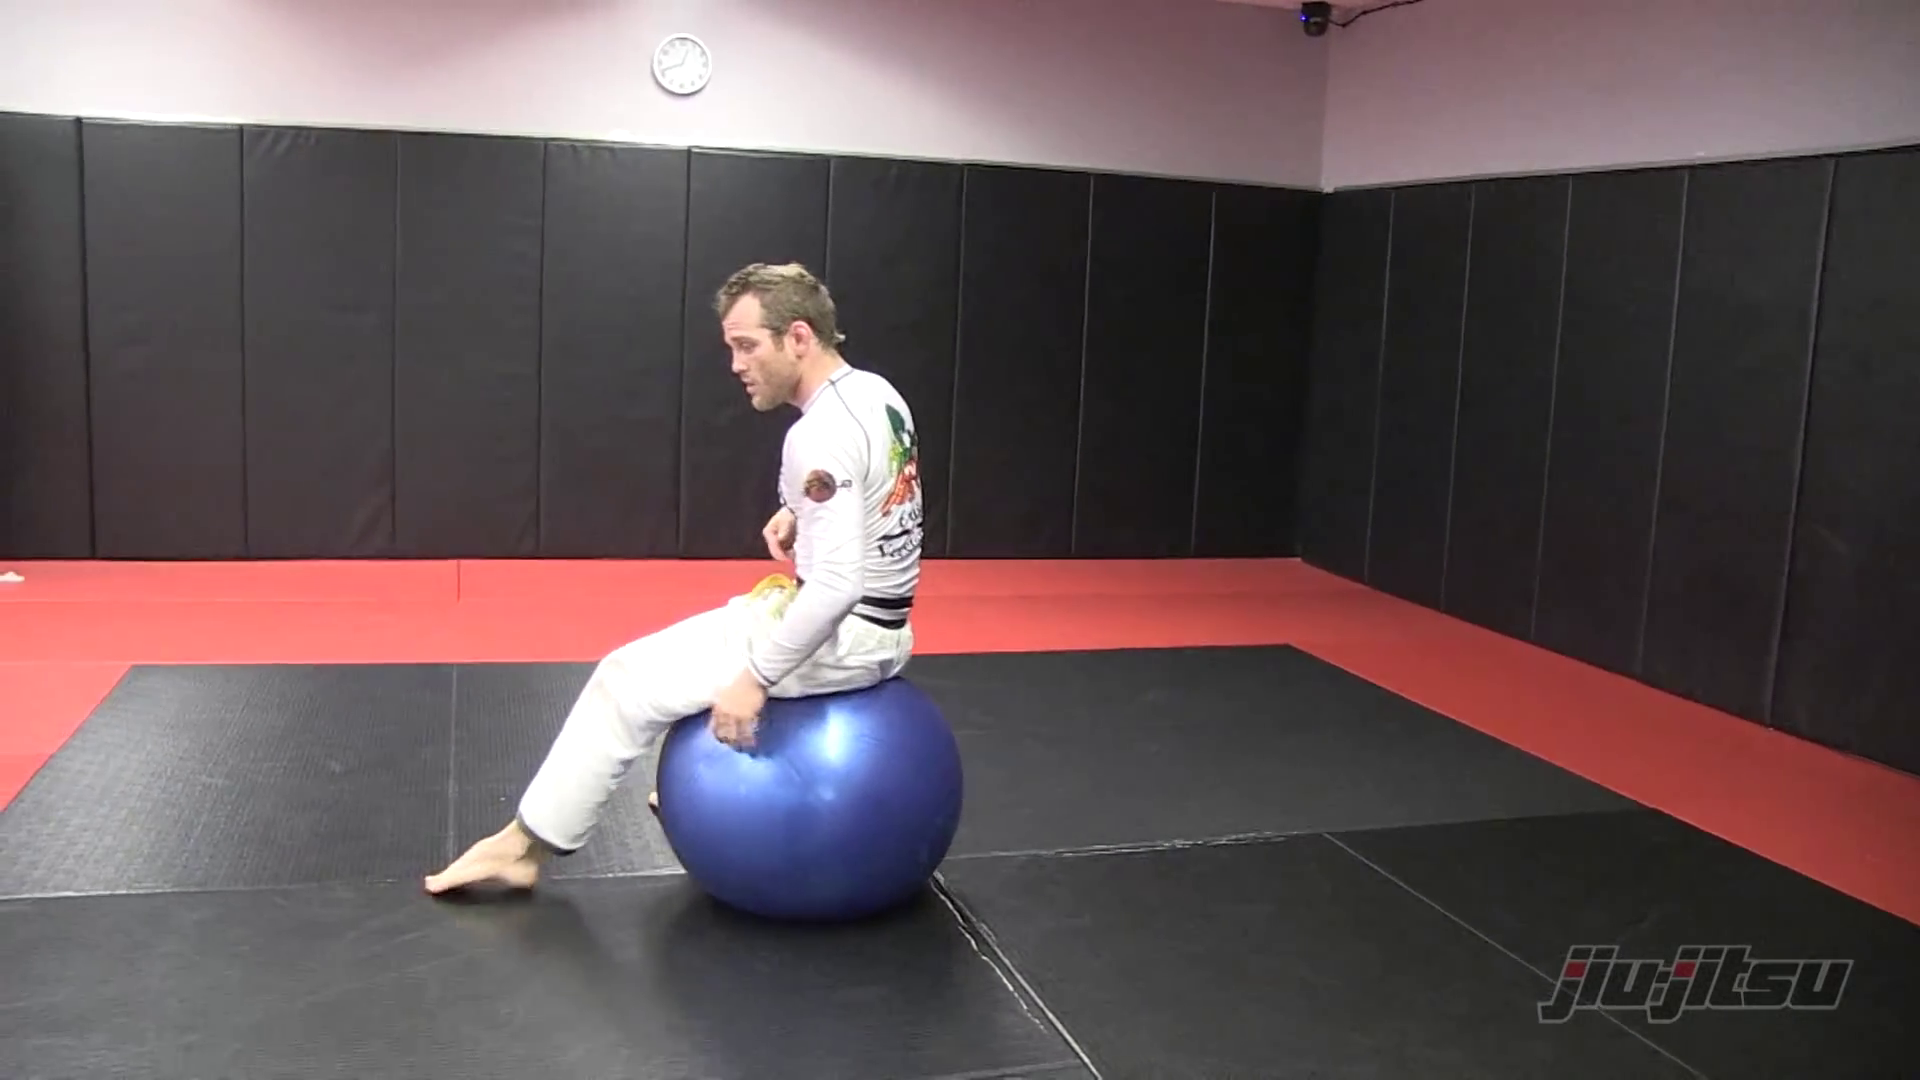yogaball: (646, 665, 973, 935)
